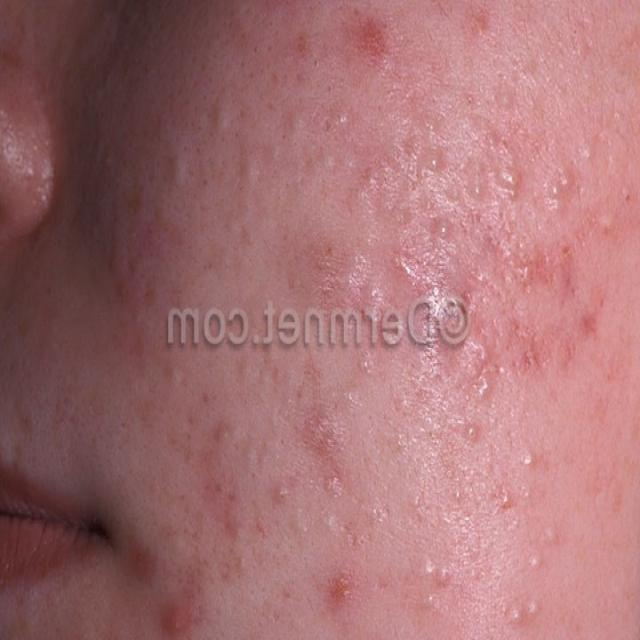acne: (145, 24, 631, 636)
